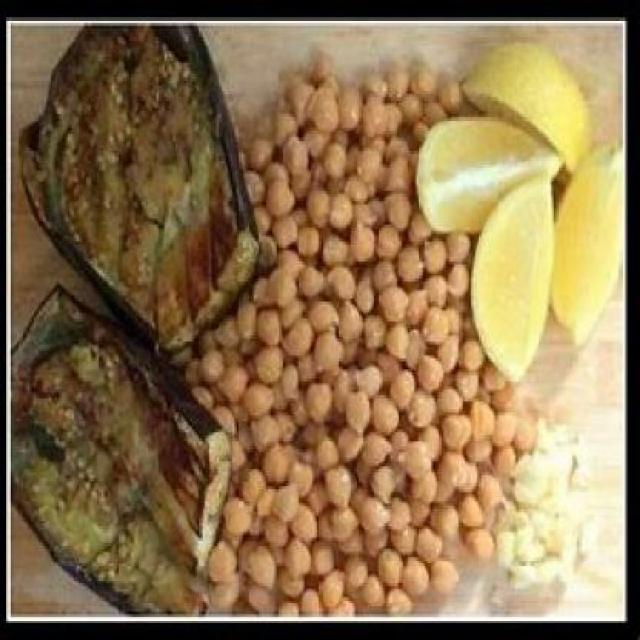eggplant: (12, 26, 262, 612)
hummus: (201, 54, 530, 614)
